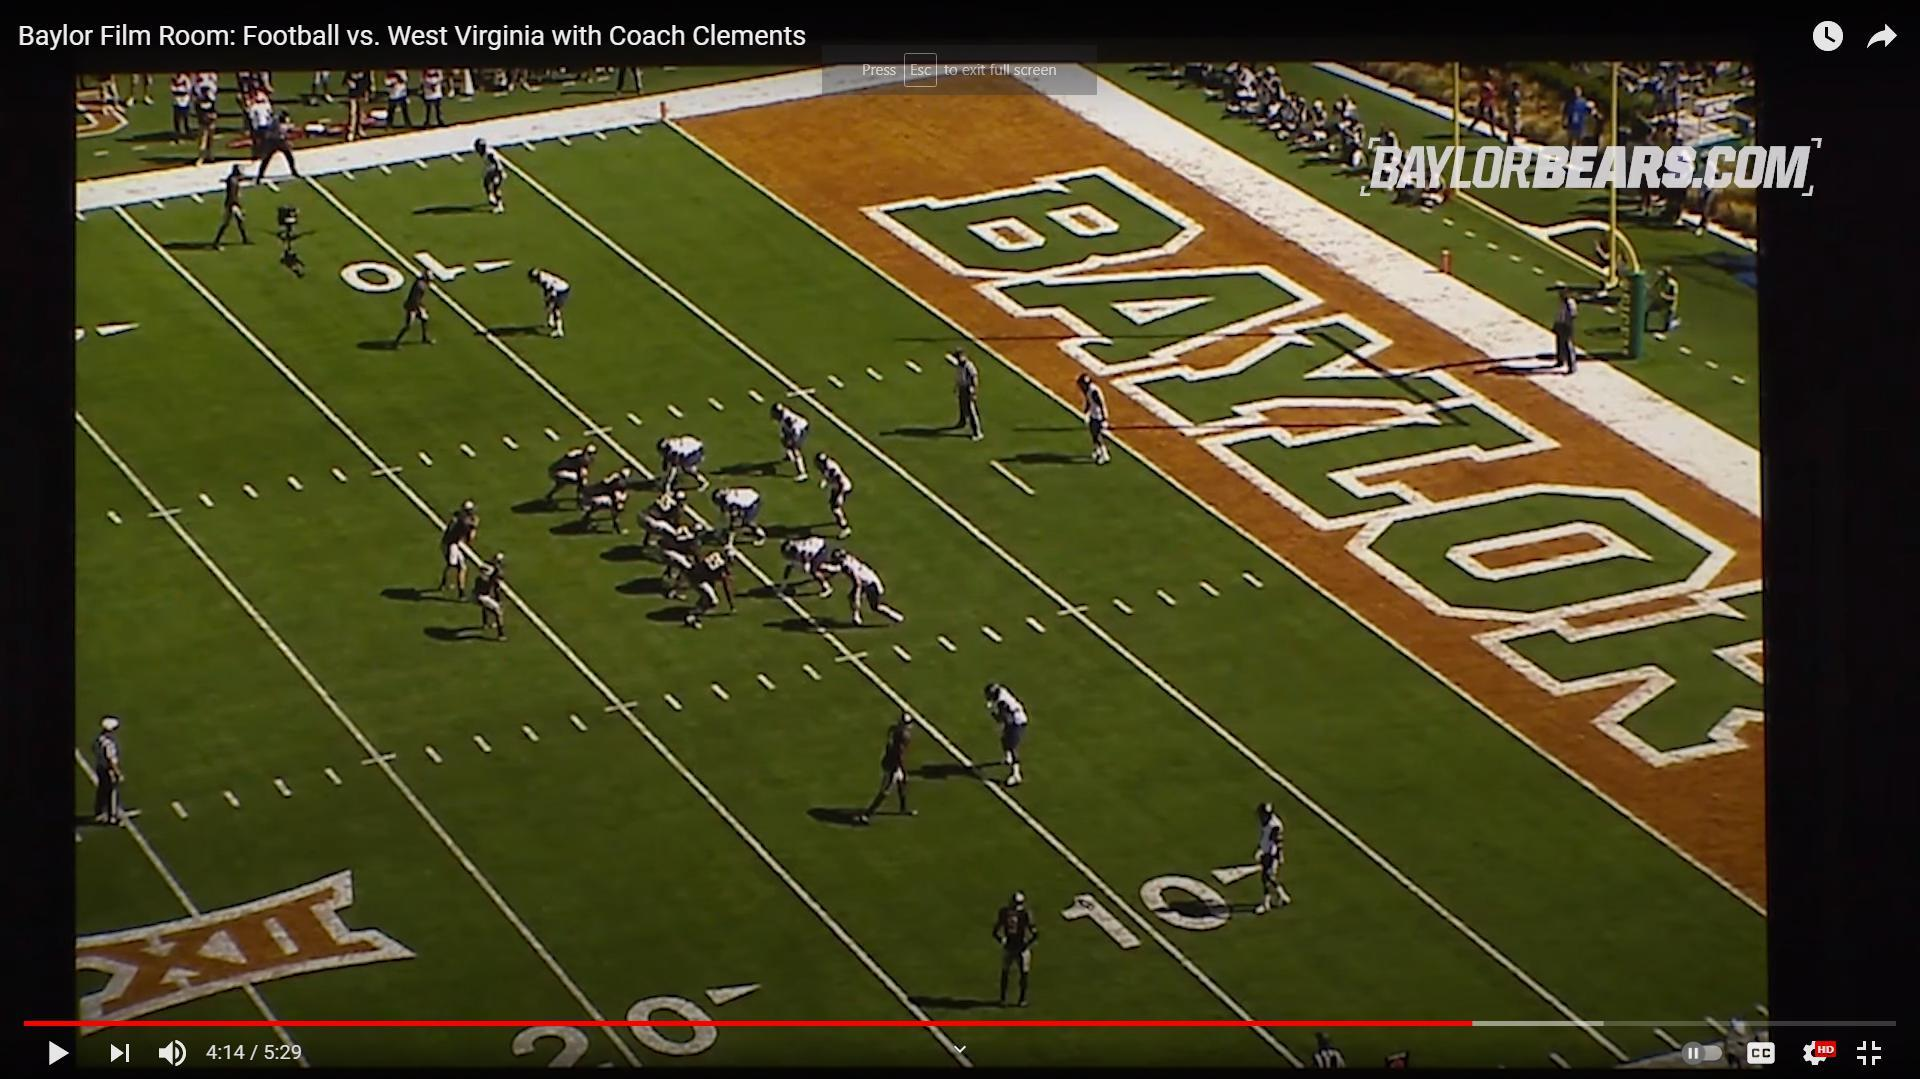defense: (833, 549, 909, 632), (986, 677, 1039, 791), (1249, 794, 1299, 914), (699, 480, 767, 550), (782, 534, 845, 599), (468, 133, 517, 216), (815, 447, 858, 538), (1075, 368, 1113, 468), (766, 402, 808, 488), (531, 268, 578, 344), (657, 437, 708, 504)
oline: (687, 539, 740, 633), (542, 441, 604, 509), (580, 467, 637, 541), (657, 524, 709, 603), (641, 492, 690, 559)
qb: (438, 500, 481, 608)
ref: (87, 706, 138, 832), (1547, 274, 1584, 377), (253, 108, 305, 182), (948, 346, 984, 442)
skill: (861, 700, 924, 822), (989, 888, 1044, 1010), (389, 264, 438, 352), (477, 549, 520, 644), (211, 160, 253, 253)
